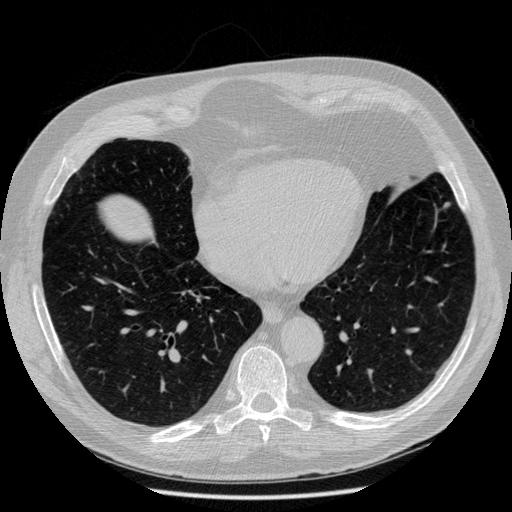nodule: (441, 200, 452, 211)
